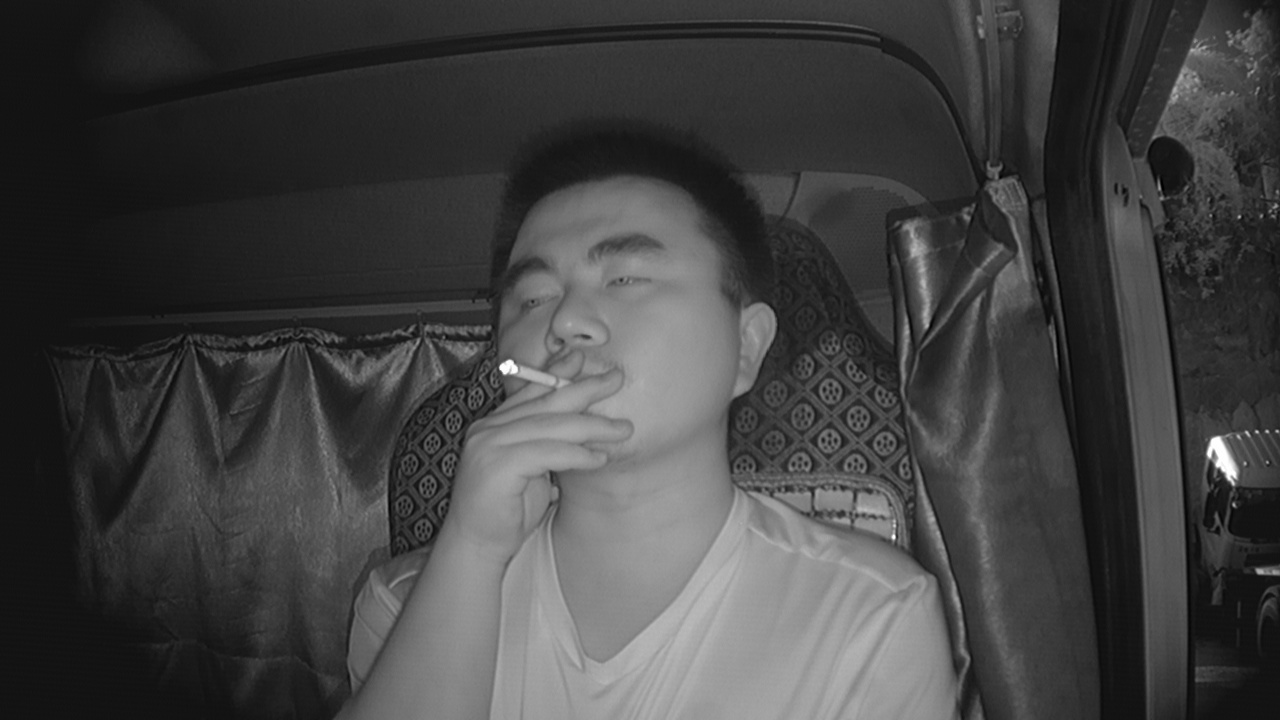hand: (450, 364, 640, 532)
